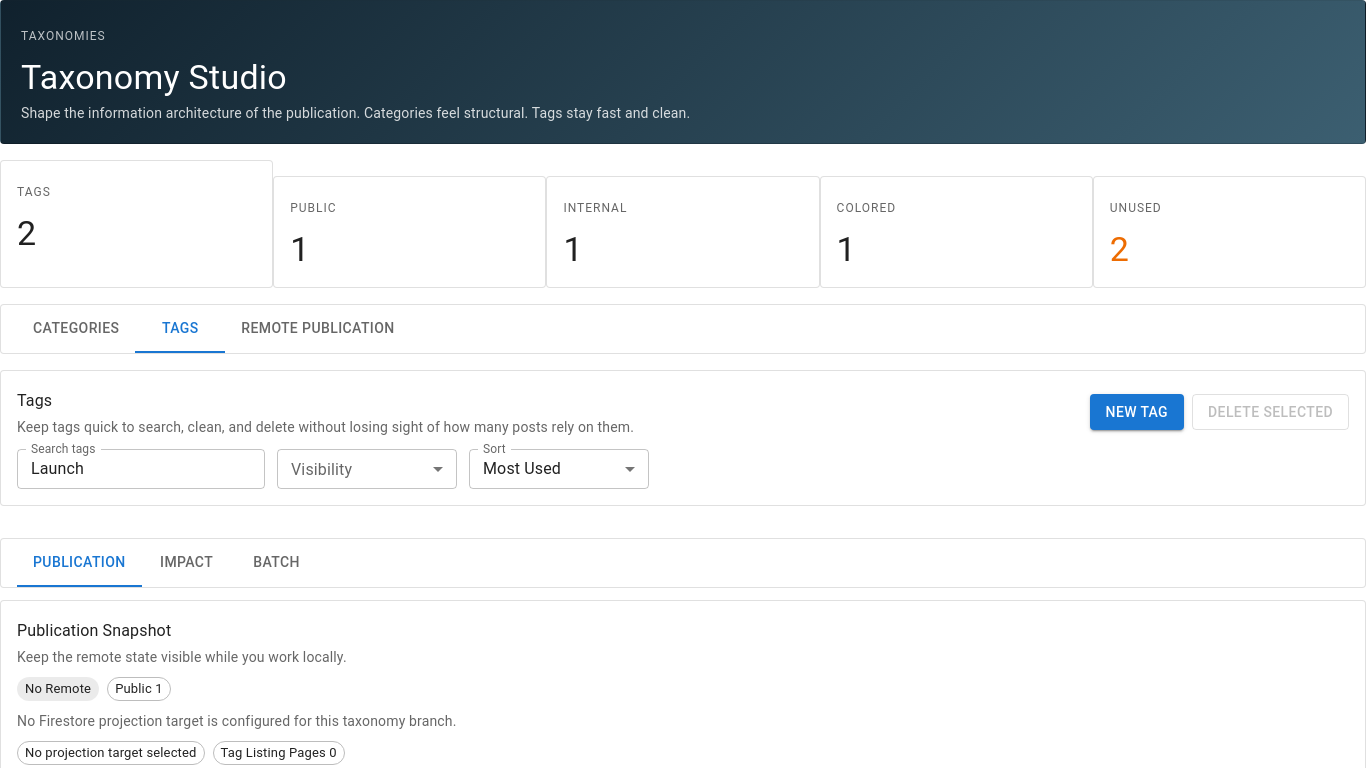
Scenario: blog taxonomy view gives tags a separate cleanup-oriented workflow
The width and height of the screenshot is (1366, 768).
Expected: the button "New Tag" is shown, [1090,394,1184,430]
Click the tab "Batch". click: (277,563)
box: [232,539,322,587]
(page scrolled)
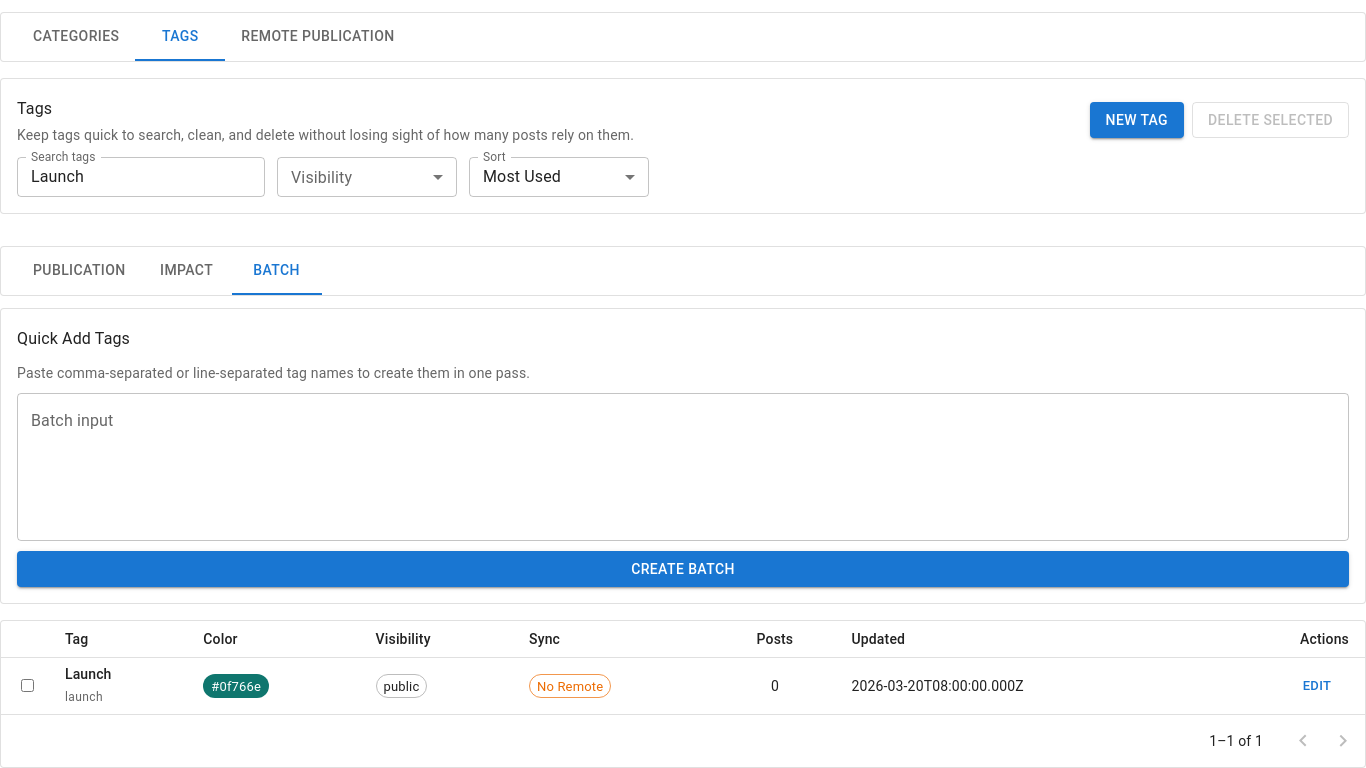
Expected: the heading "Launch" is shown, [65,666,111,682]
Result: the heading "Quick Add Tags" is shown at [17,329,130,348]
